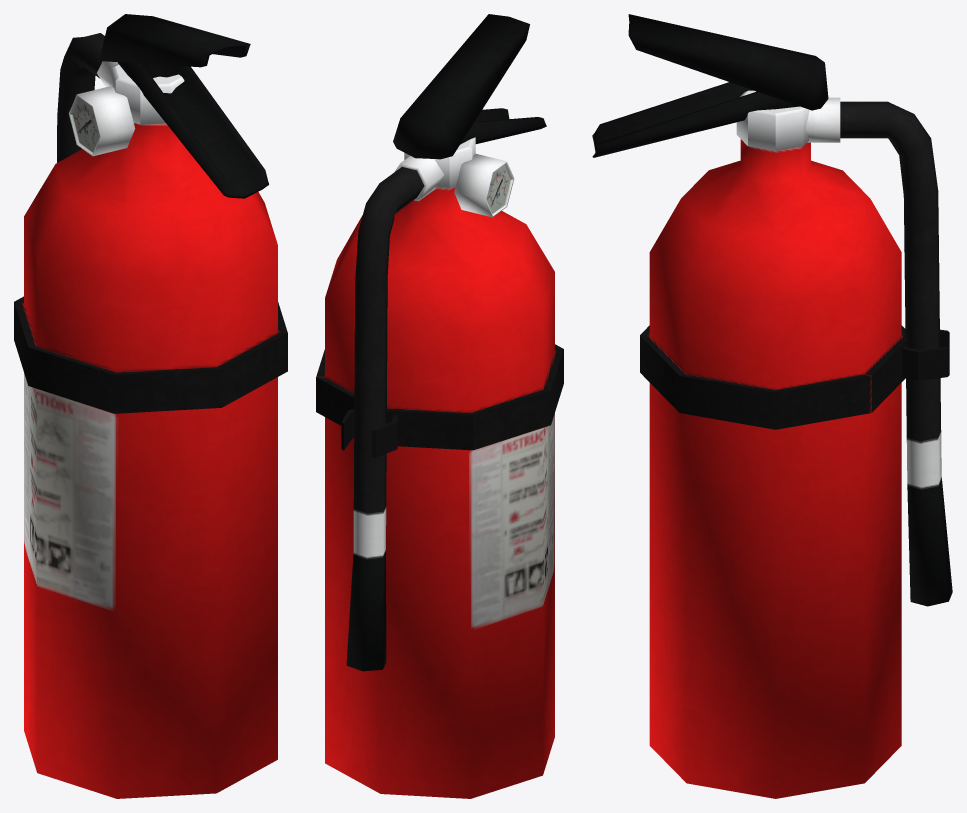
The model's file is FireExtinguisher.FBX.
The picture shows the model from 3 angles, left to right: view 1: azimuth 30°, elevation 25°; view 2: azimuth 150°, elevation 25°; view 3: azimuth 270°, elevation 25°; orthographic projection. The views are drawn at different scales.
Parts seen in each view (by area): view 1: FireExtinguisher; view 2: FireExtinguisher; view 3: FireExtinguisher.
Part boxes in pixels (bbox=[...]): FireExtinguisher: bbox=[14, 14, 287, 798]; FireExtinguisher: bbox=[316, 14, 563, 798]; FireExtinguisher: bbox=[592, 14, 952, 798].
Size of the model in its own units: 14.38 by 42.28 by 19.08.
Materials: 1 (1 with a texture image).
